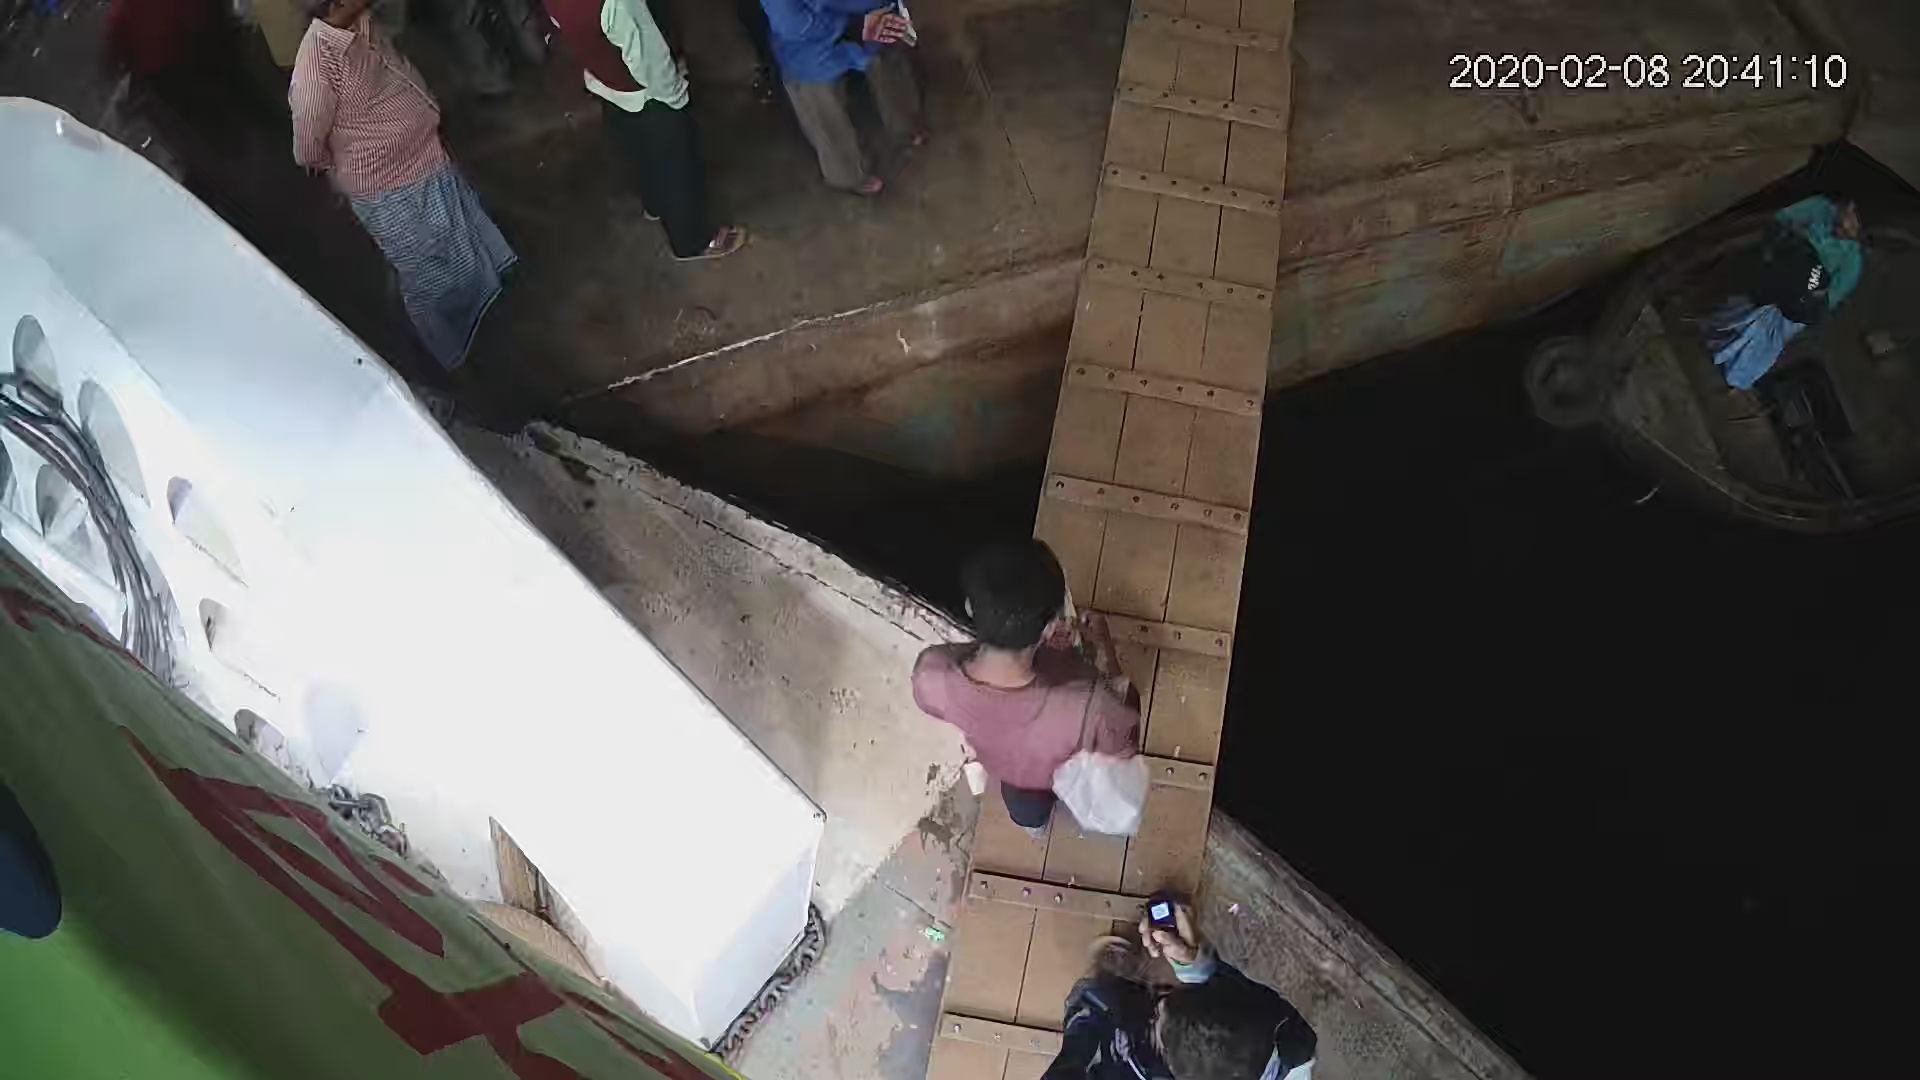person: (275, 1, 527, 390), (902, 524, 1152, 843), (1027, 899, 1331, 1080), (552, 1, 750, 274), (1681, 176, 1882, 399)
